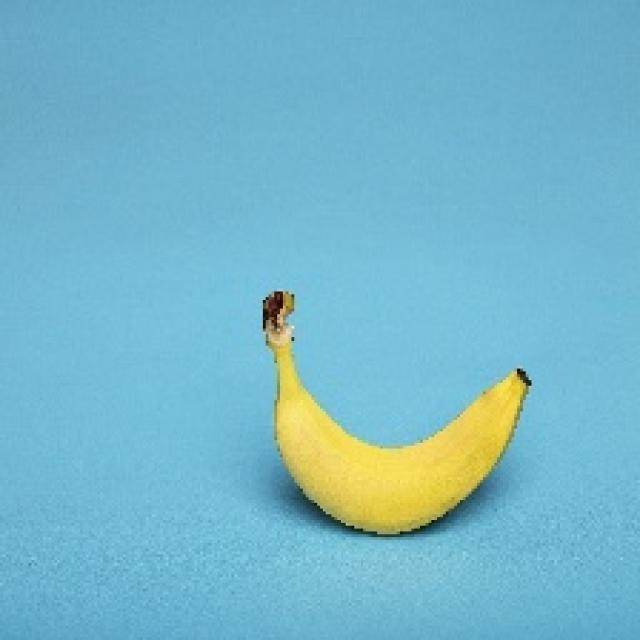Banana: (260, 289, 531, 534)
